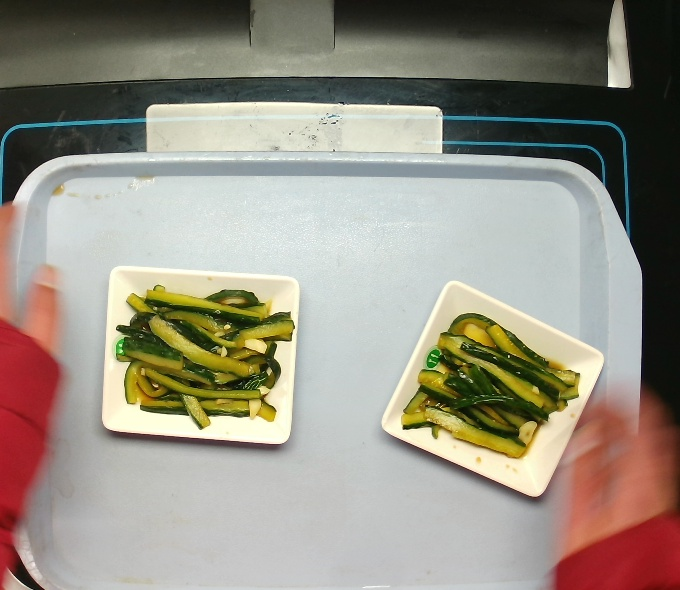wcq-LiangBanHuangGua: (398, 310, 582, 469), (109, 278, 293, 437)
